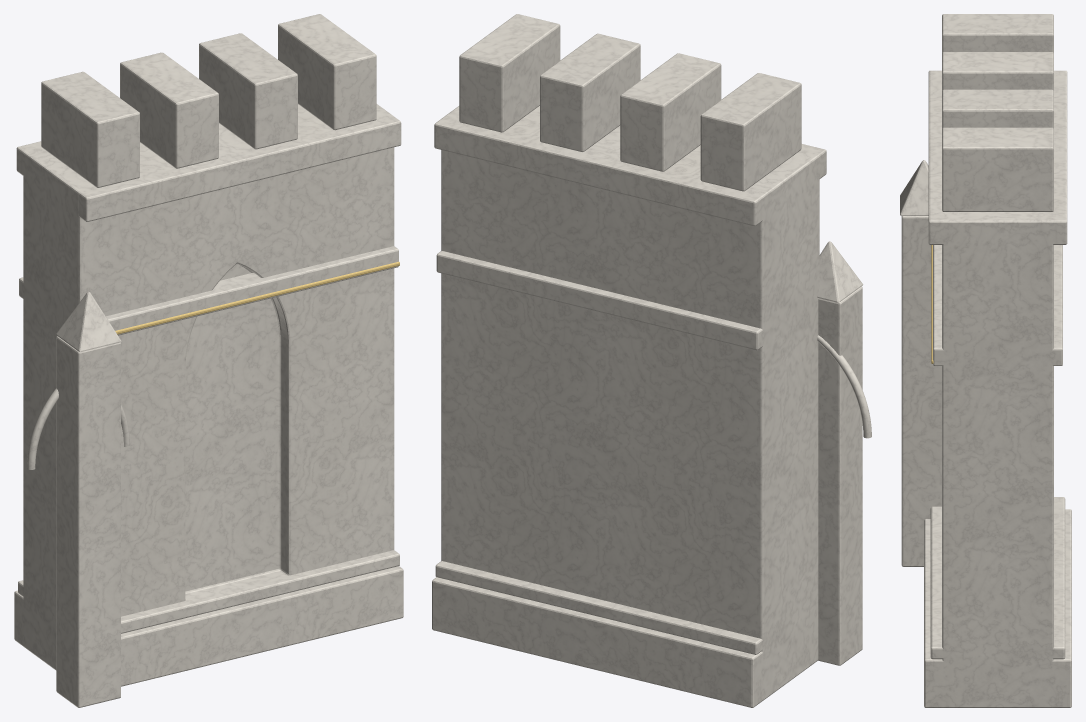
Rendered from HolyWall_Intact.fbx.
The picture shows the model from 3 angles, left to right: view 1: azimuth 30°, elevation 25°; view 2: azimuth 150°, elevation 25°; view 3: azimuth 270°, elevation 25°; orthographic projection. The views are drawn at different scales.
Visible parts, largest first — view 1: HolyWall_Intact; view 2: HolyWall_Intact; view 3: HolyWall_Intact.
Boxes of the visible parts, <box> form: HolyWall_Intact: <box>14,14,403,707</box>; HolyWall_Intact: <box>432,14,871,707</box>; HolyWall_Intact: <box>900,14,1071,707</box>.
Bounding box in the file's own units: 9.29 × 13.6 × 3.84.
